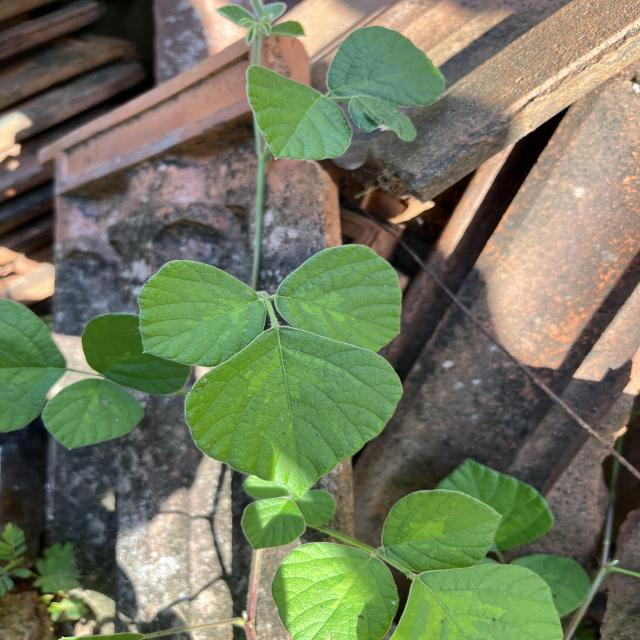Pseudarthria viscida: (136, 240, 408, 499)
